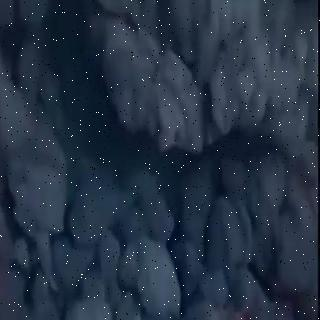smoke: (0, 0, 320, 264), (19, 279, 193, 320)
